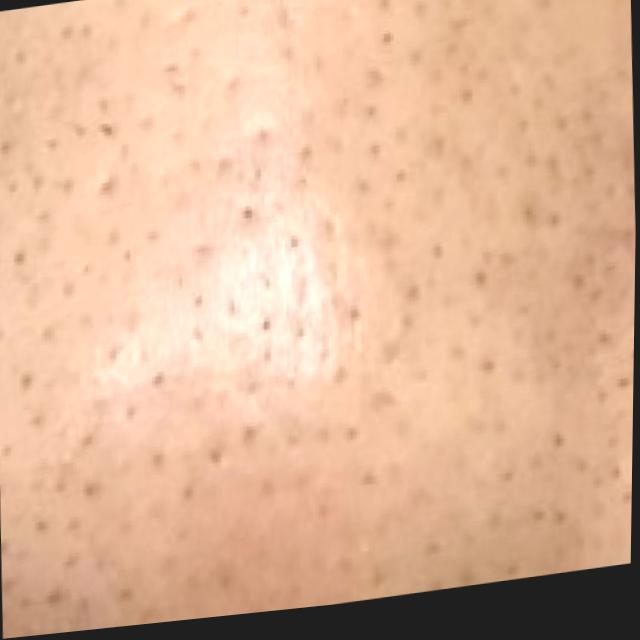blackhead: (0, 58, 466, 568)
